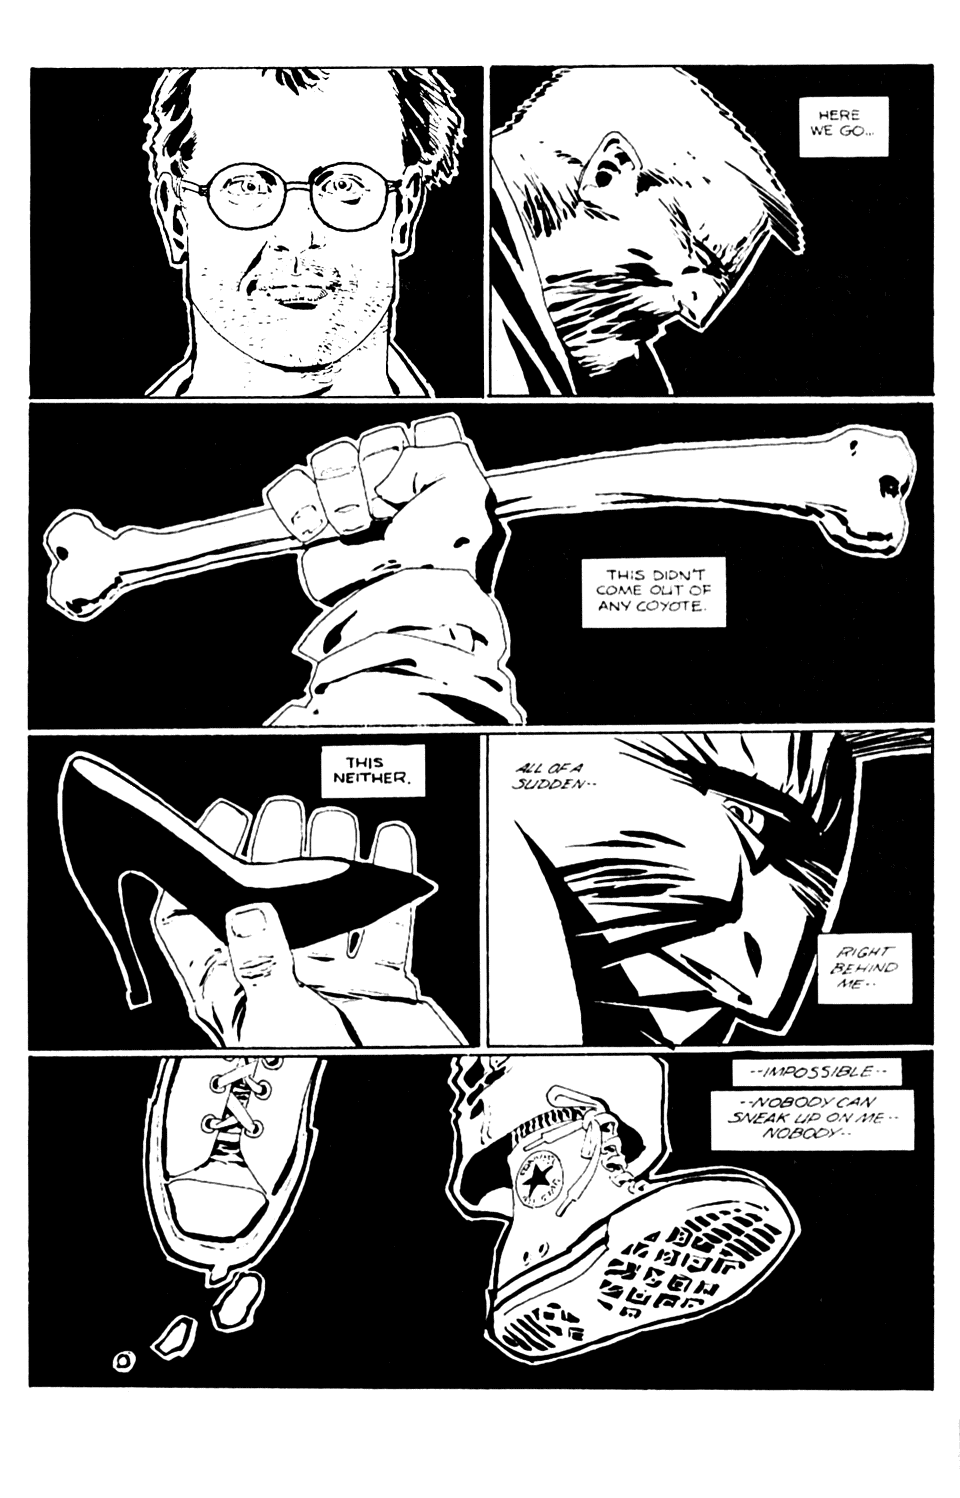Baloon: (712, 1091, 917, 1153), (580, 551, 726, 628), (815, 932, 915, 1004), (796, 94, 890, 157), (319, 744, 426, 798), (726, 1057, 901, 1089), (505, 754, 601, 796)
Vignetta: (28, 1055, 928, 1386), (29, 403, 933, 726), (28, 71, 487, 399), (490, 64, 933, 394), (33, 735, 478, 1048), (485, 739, 937, 1046)
